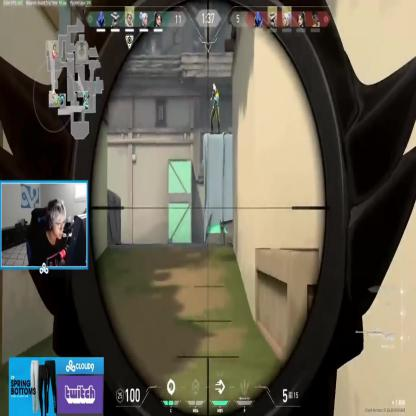enemy: (209, 84, 221, 136)
enemy_head: (213, 84, 217, 93)
